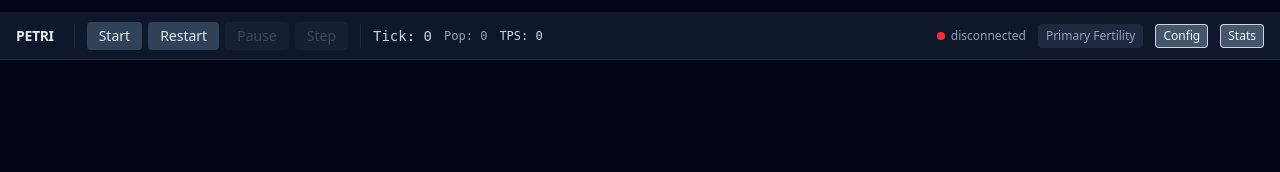
Scenario: ControlBar › surfaces a rejected restart re-apply and still refreshes the config store
Click the button with test id "control-restart".
click(184, 36)  # box [148,22,219,50]
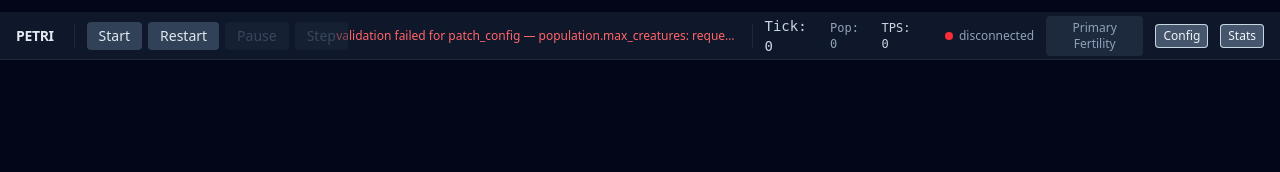
Expected: the text with test id "control-restart-error" shows "validation failed for patch_config", [336,26,780,44]
Expected: the text with test id "control-restart-error" shows "population.max_creatures: requested 1000", [336,26,780,44]
